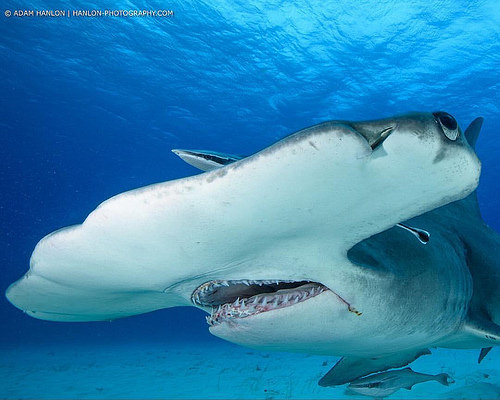shark: (9, 101, 495, 391)
